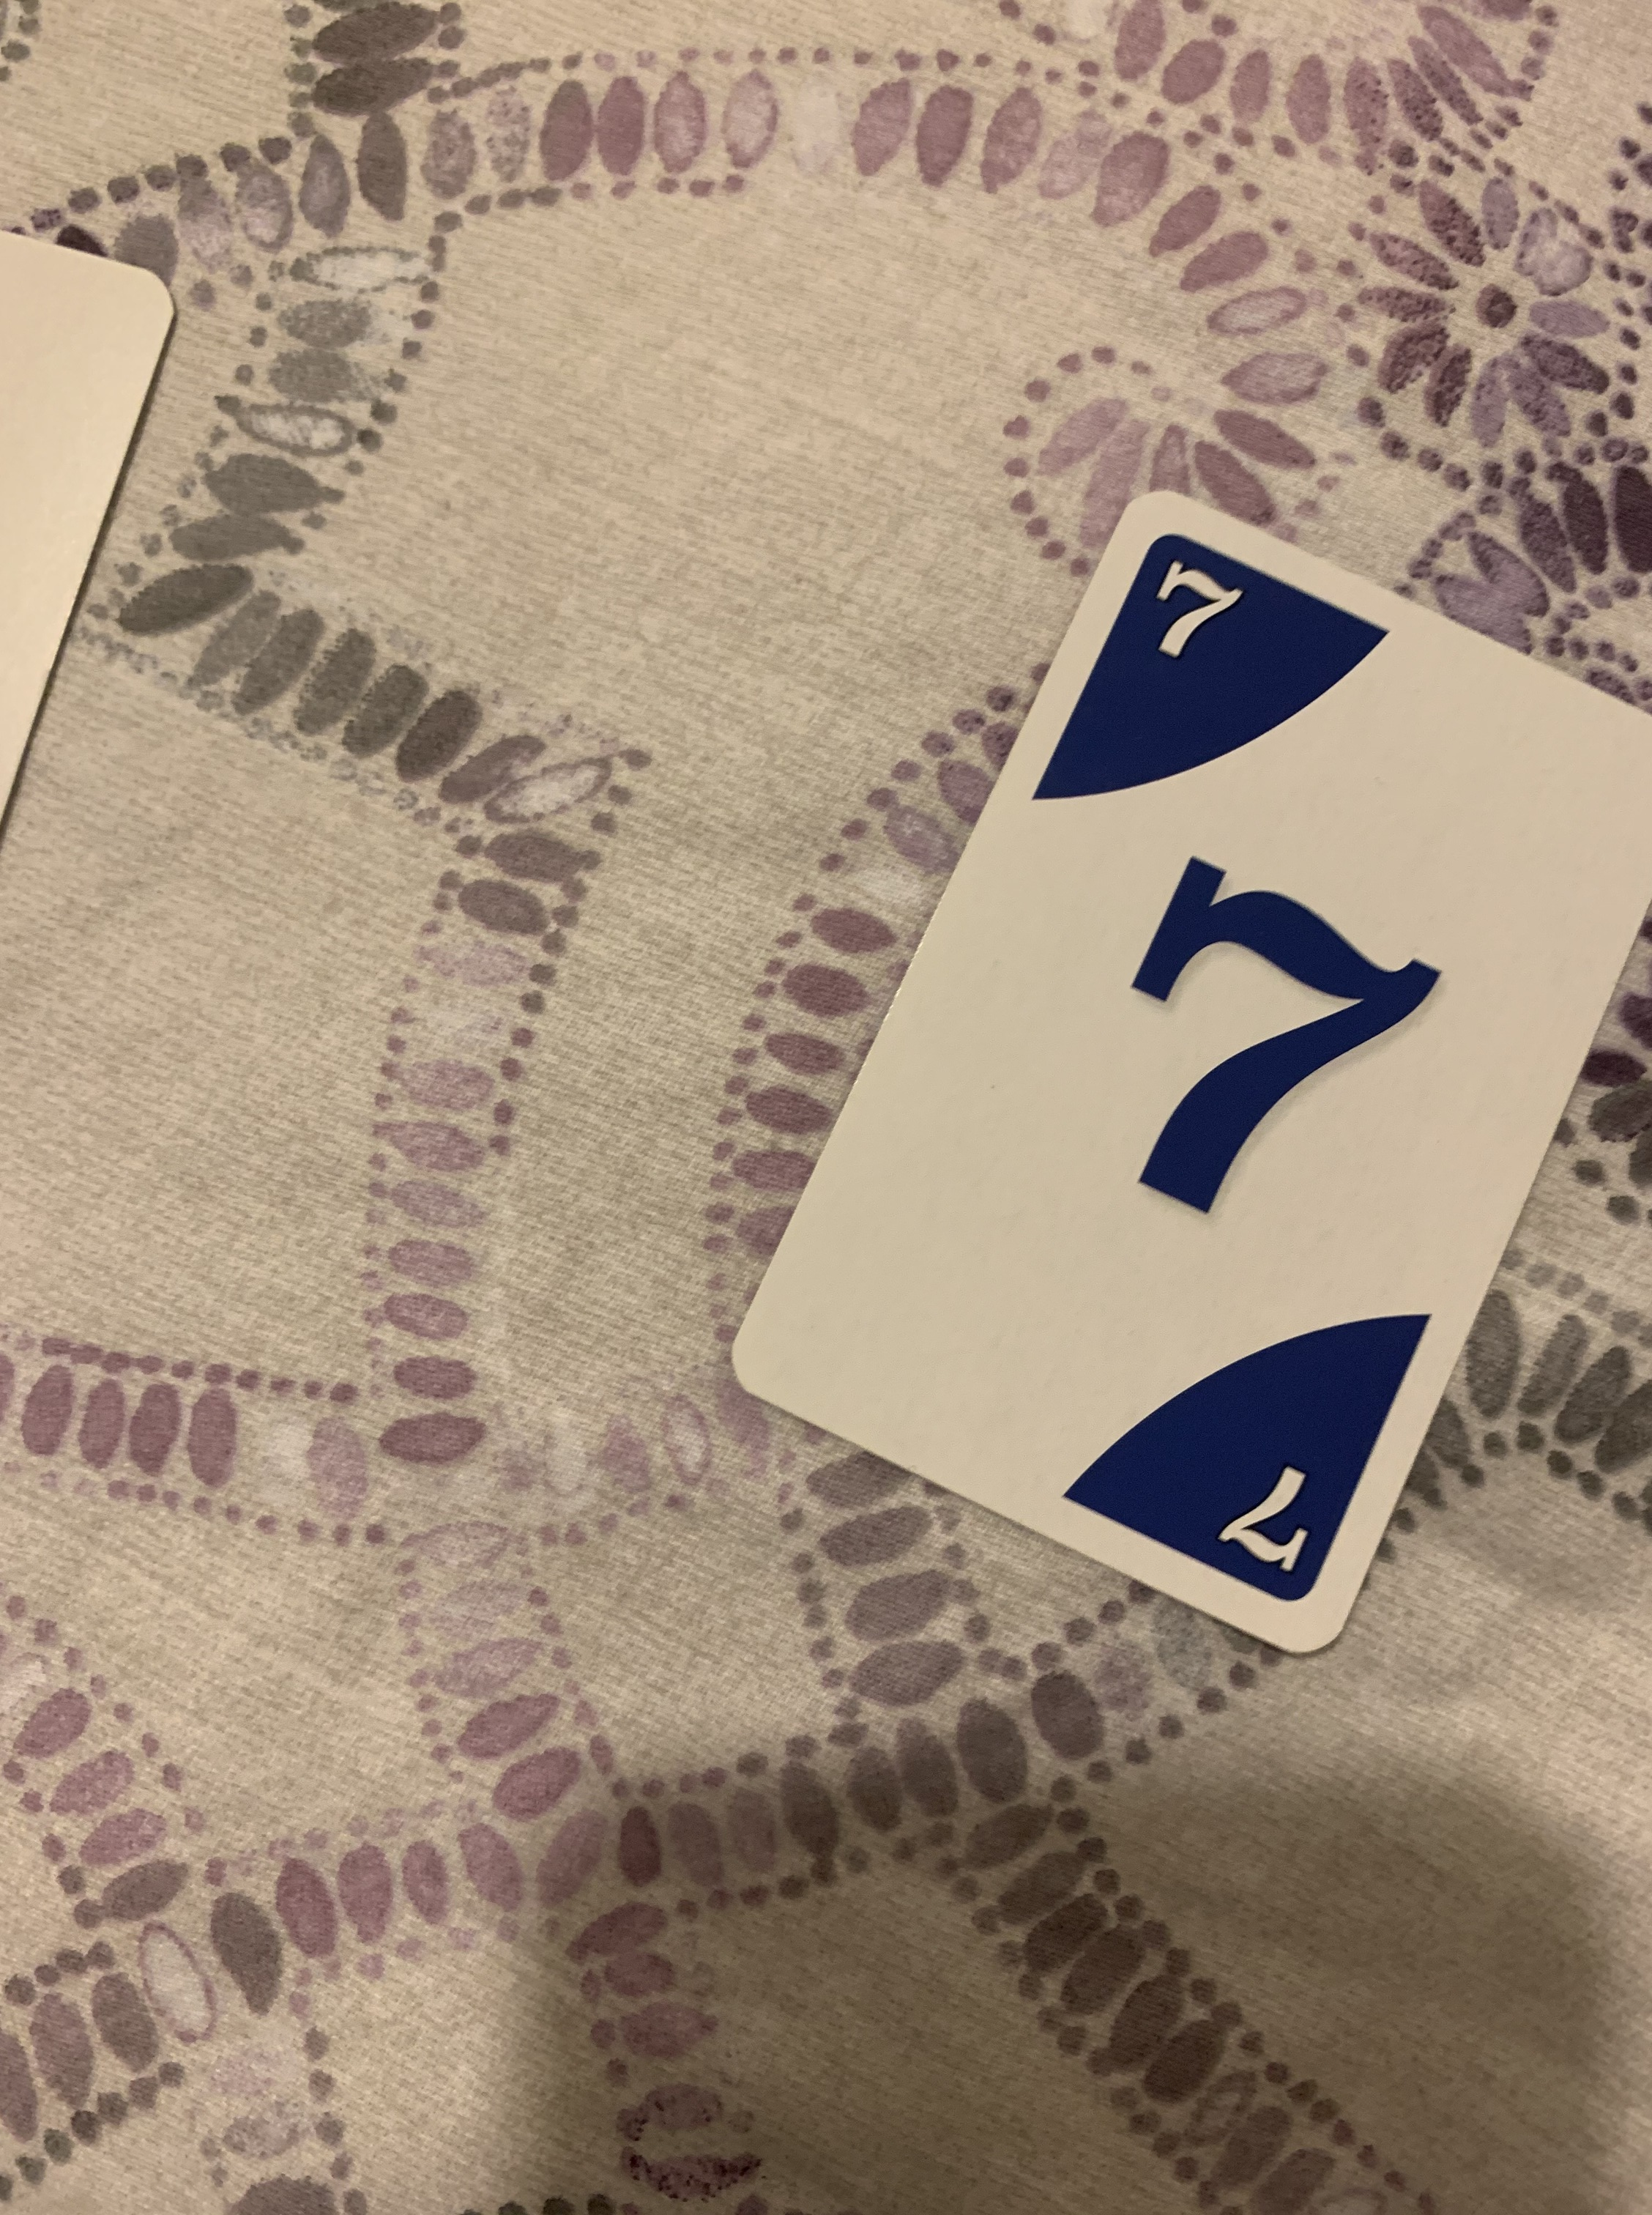seven: (715, 474, 1652, 1654)
